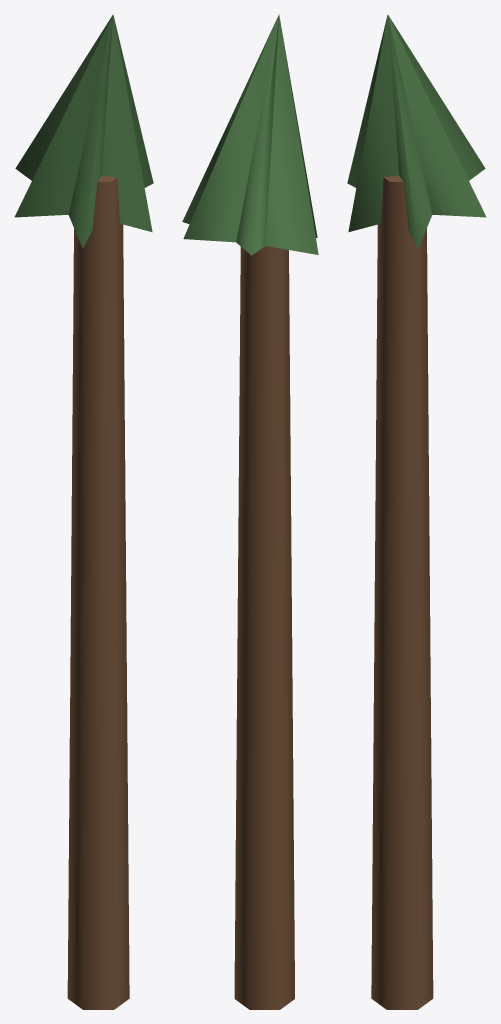
The model's file is crop-palm-tree-stage-3-trunk-forming.glb.
The picture shows the model from 3 angles, left to right: view 1: azimuth 30°, elevation 25°; view 2: azimuth 150°, elevation 25°; view 3: azimuth 330°, elevation 25°; orthographic projection. The views are drawn at different scales.
Parts seen in each view (by area): view 1: crop-palm-tree-stage-3-trunk-forming-beach-trunk, crop-palm-tree-stage-3-trunk-forming-beach-foliage; view 2: crop-palm-tree-stage-3-trunk-forming-beach-trunk, crop-palm-tree-stage-3-trunk-forming-beach-foliage; view 3: crop-palm-tree-stage-3-trunk-forming-beach-trunk, crop-palm-tree-stage-3-trunk-forming-beach-foliage.
Boxes of the visible parts, <box> form: crop-palm-tree-stage-3-trunk-forming-beach-trunk: <box>67,175,129,1009</box>; crop-palm-tree-stage-3-trunk-forming-beach-foliage: <box>14,14,153,248</box>; crop-palm-tree-stage-3-trunk-forming-beach-trunk: <box>234,246,294,1009</box>; crop-palm-tree-stage-3-trunk-forming-beach-foliage: <box>182,14,318,255</box>; crop-palm-tree-stage-3-trunk-forming-beach-trunk: <box>371,175,433,1009</box>; crop-palm-tree-stage-3-trunk-forming-beach-foliage: <box>347,14,486,248</box>.
Bounding box in the file's own units: 0.442 × 3.01 × 0.3709.
